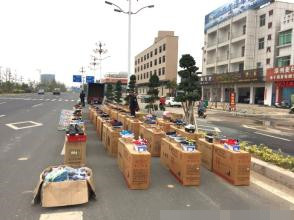vendors: (30, 101, 252, 209)
